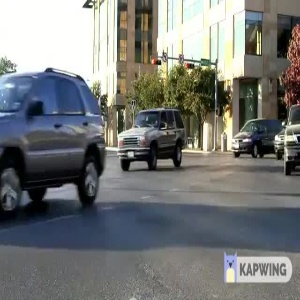suv: (1, 69, 113, 216), (116, 101, 194, 179)
